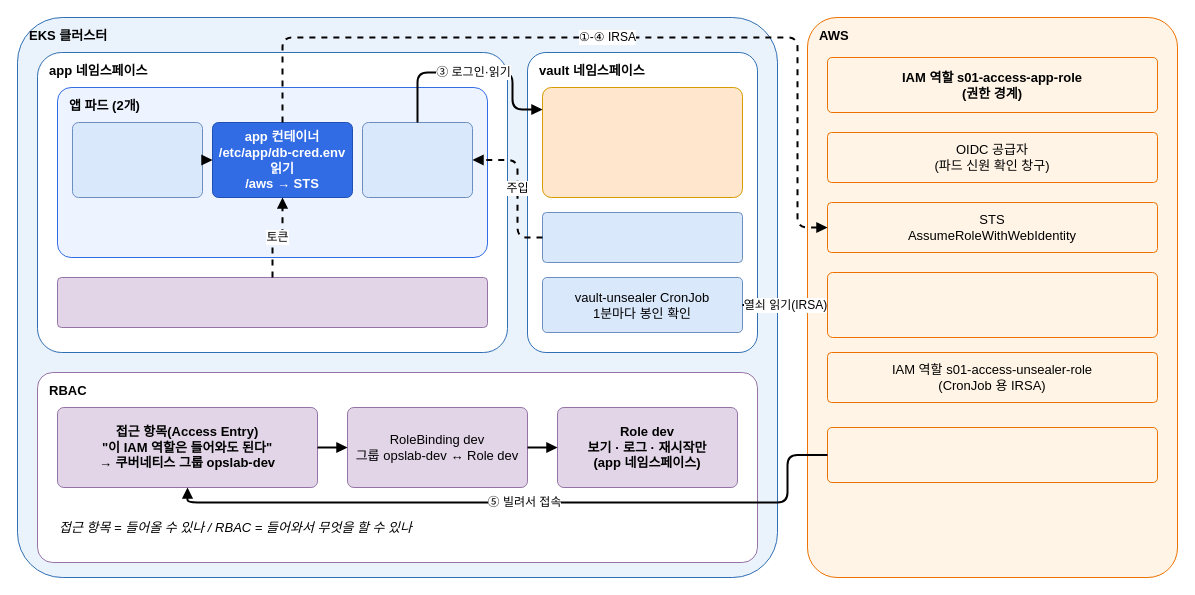
Image size: 1195x595. Some labels were removed from this diagram. The shapes that lost their labels are listed below. From the top down, each one's centre as x and y in pixels, then its label:
At point (137, 160): "vault-agent-init (출근 전 금고에서 비밀 꺼내 오기)".
At point (417, 160): "vault-agent (사이드카, 비밀 갱신)".
At point (642, 142): "② vault-0 (금고) KV secret/opslab/db 정책 · Kubernetes Auth 파일 저장소(PVC)".
At point (642, 237): "Agent Injector (사이드카 주입기)".
At point (272, 302): "서비스 계정 opslab-app ① 어노테이션: role-arn = s01-access-app-role".
At point (992, 305): "Secrets Manager s01-access-vault-init (봉인 해제 열쇠·루트 토큰)".
At point (992, 454): "IAM 역할 s01-access-dev-role (개발자가 빌려 쓰는 역할)".
